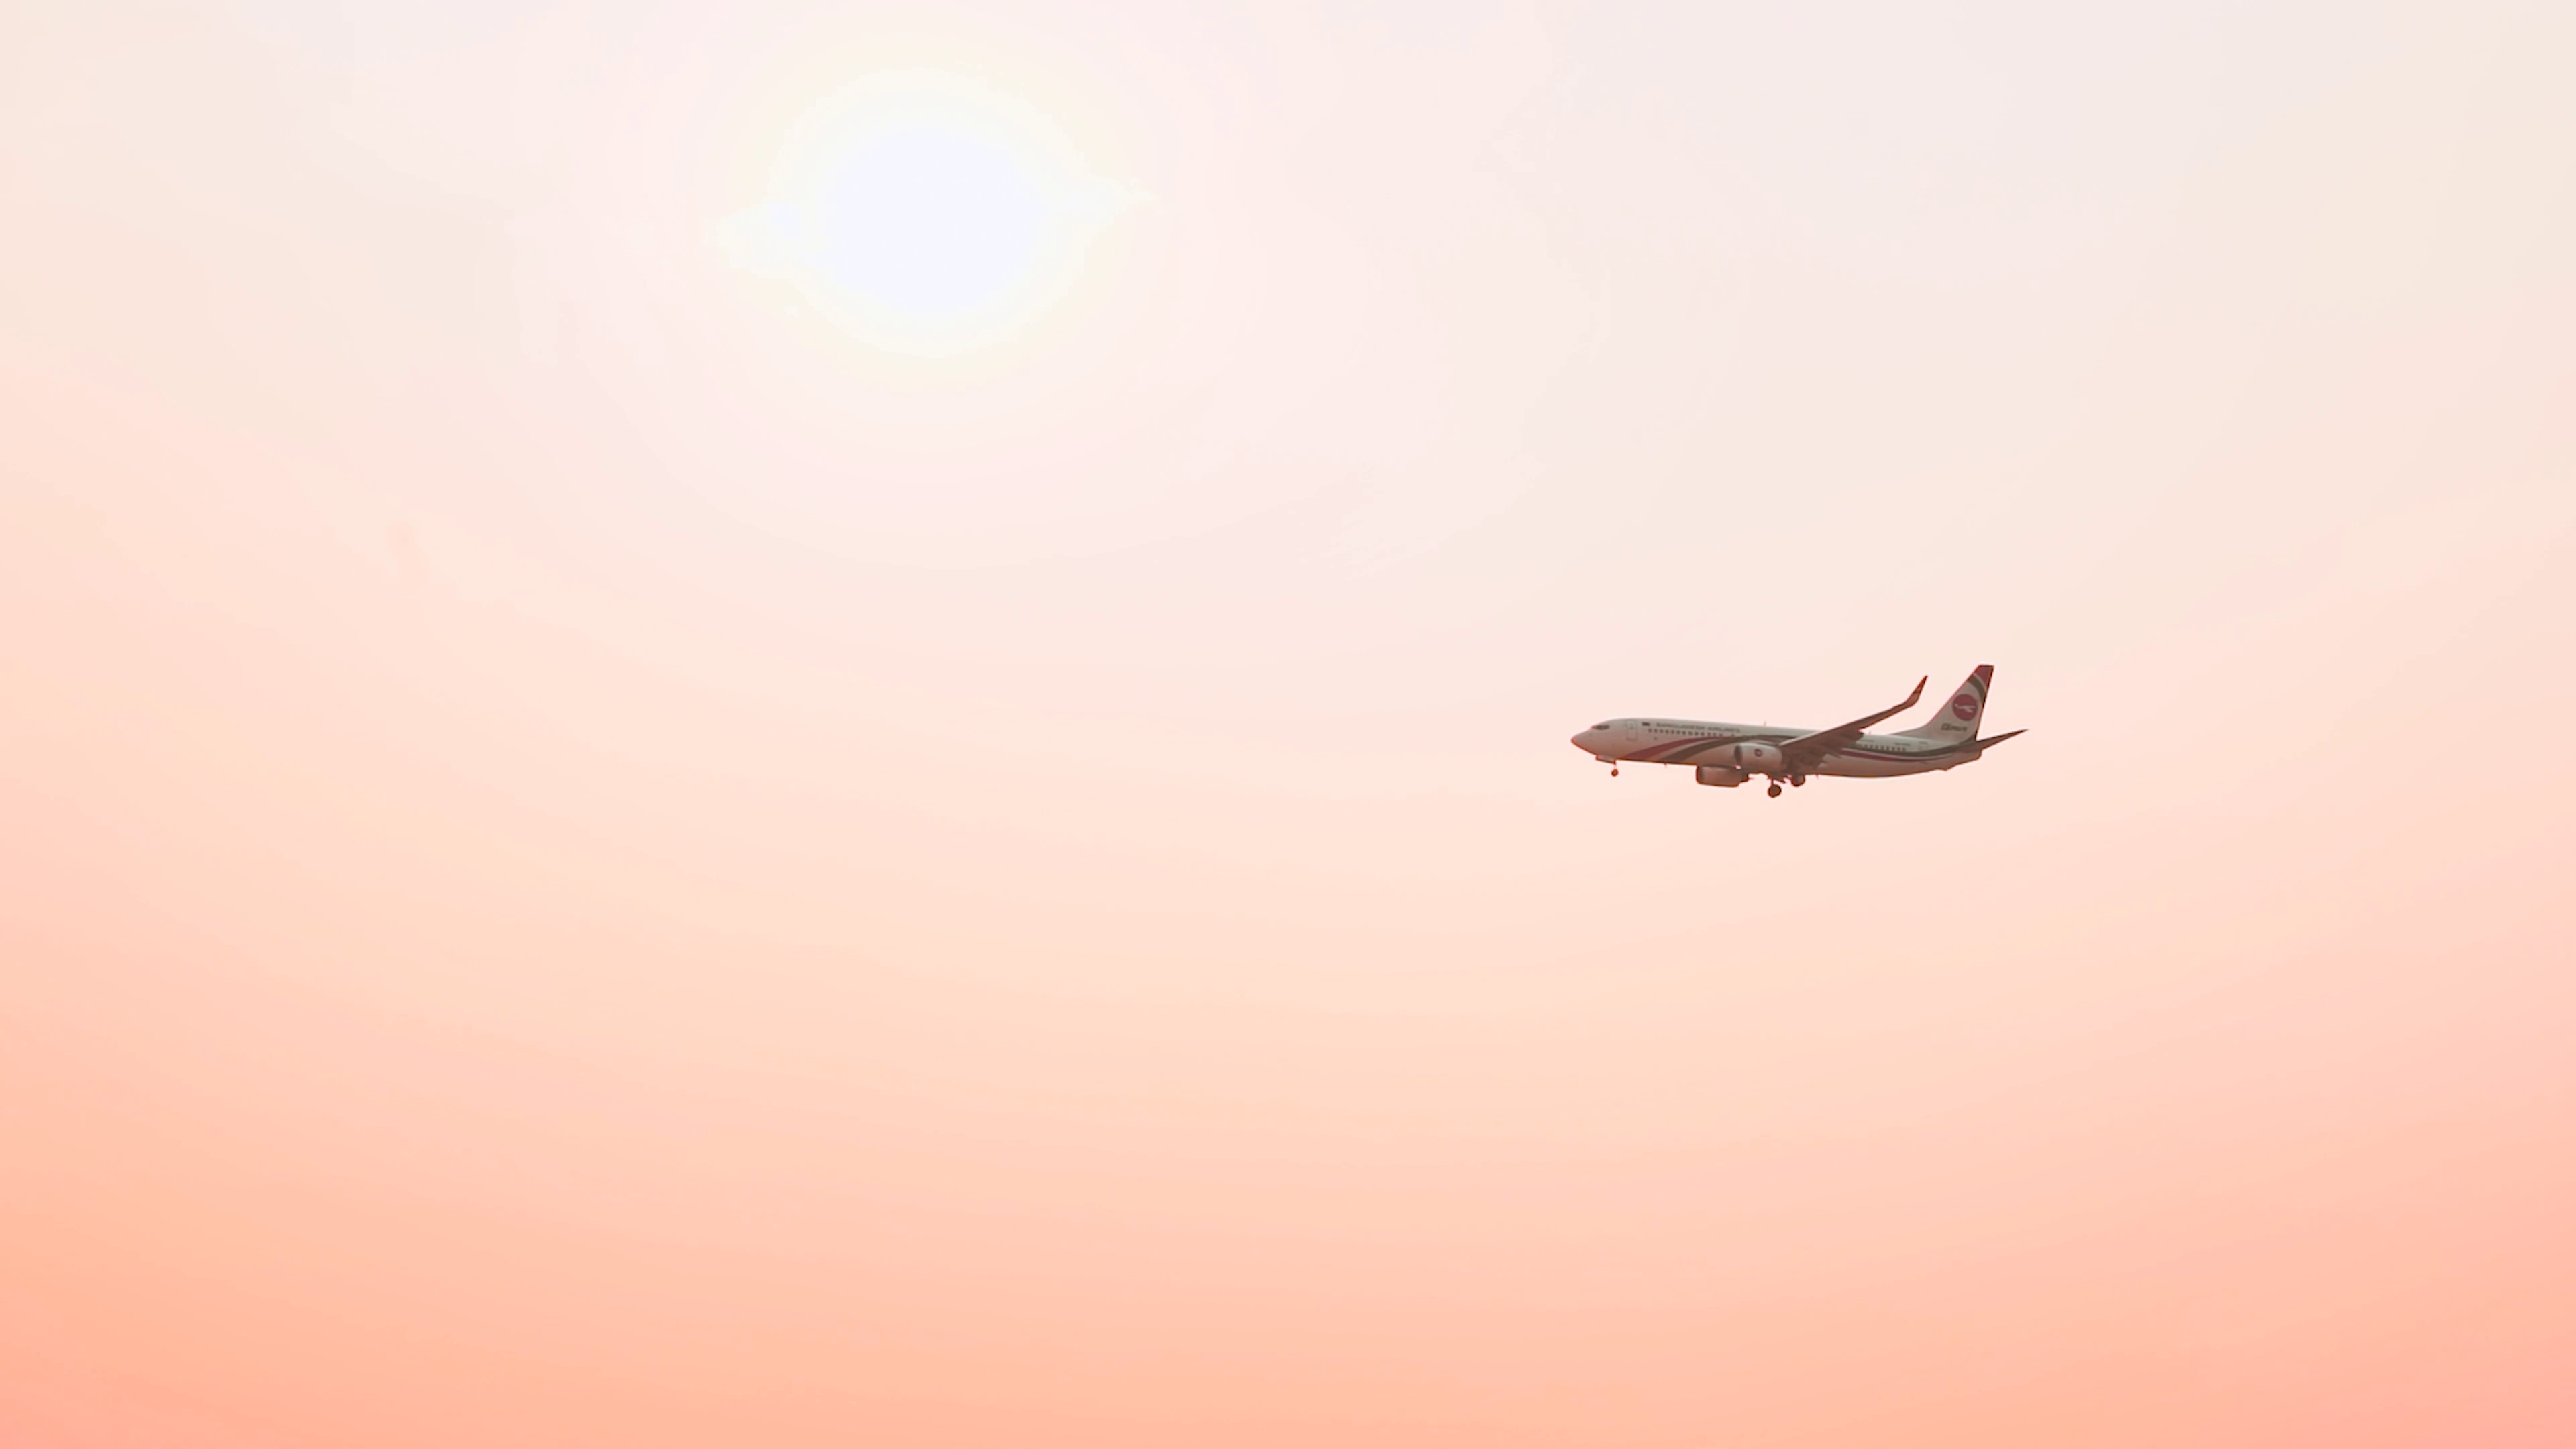plane: (1566, 662, 2024, 794)
